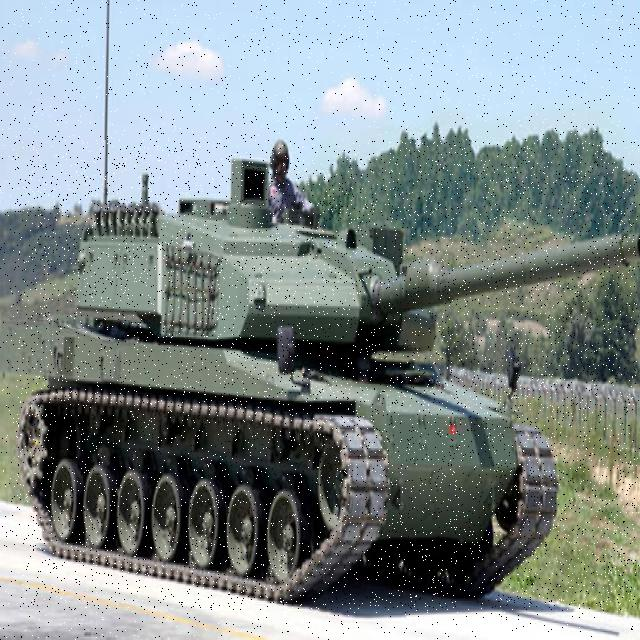MIL_MBT: (17, 140, 637, 610)
